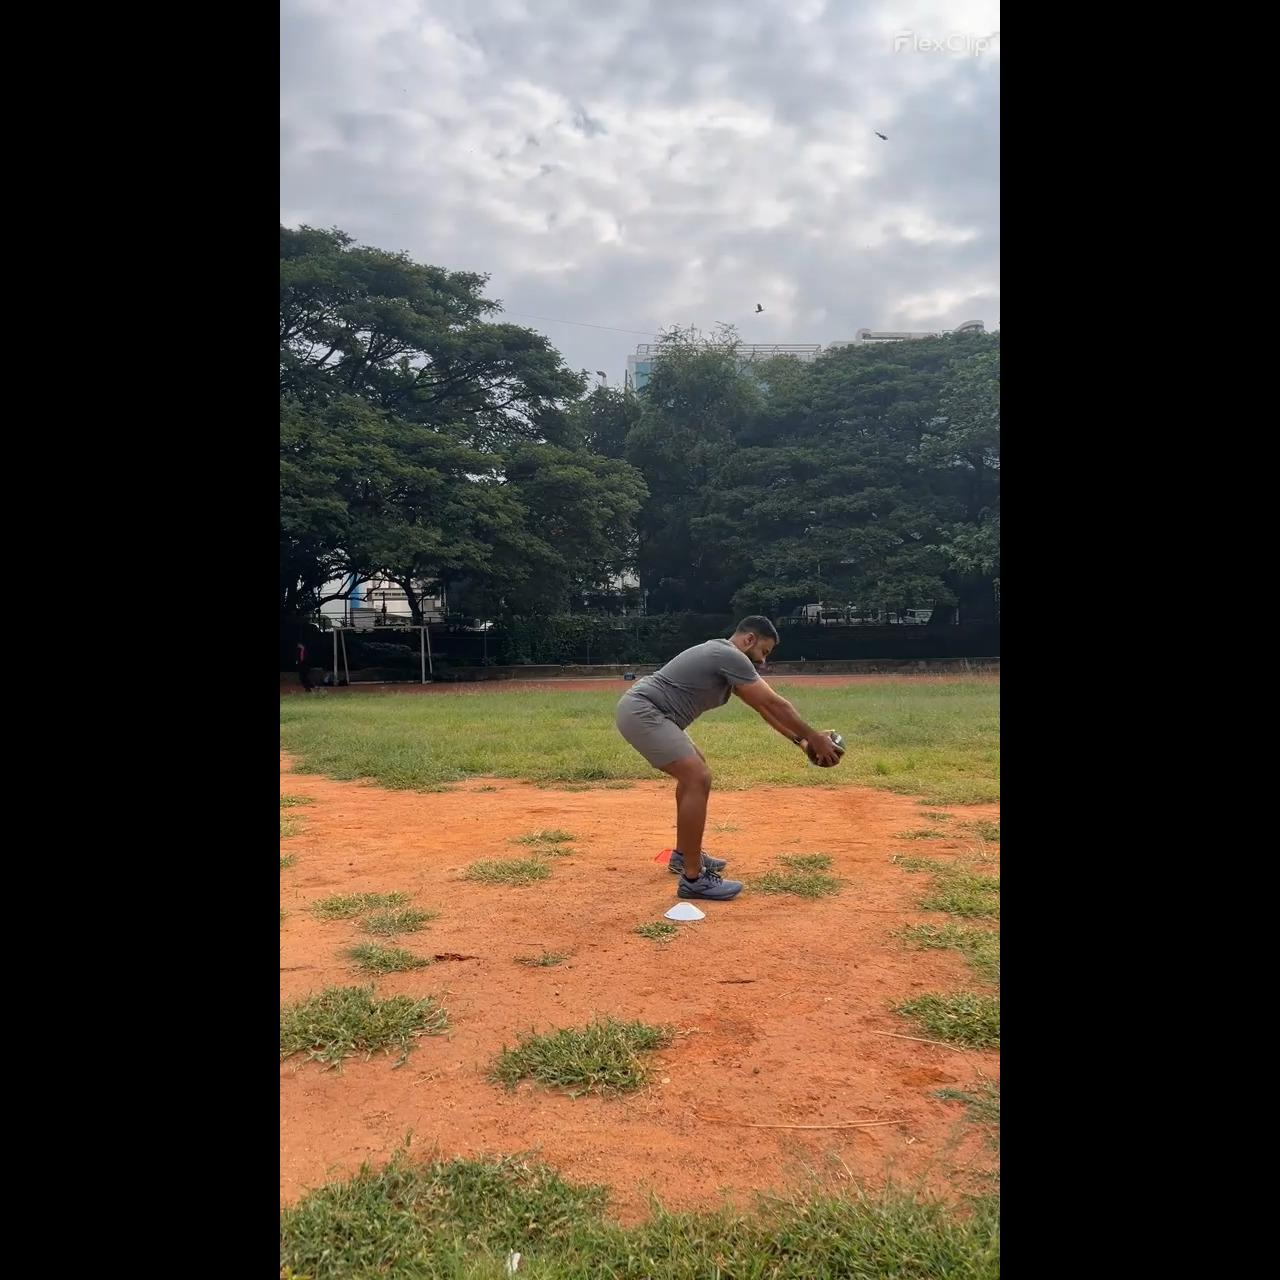Athelete: (617, 610, 845, 903)
